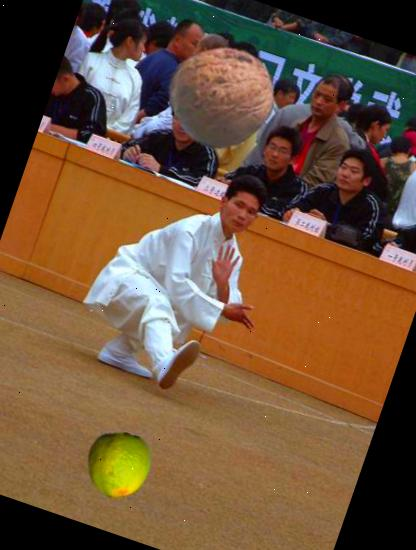Limes: (75, 422, 161, 508)
Walnut: (152, 27, 292, 167)
